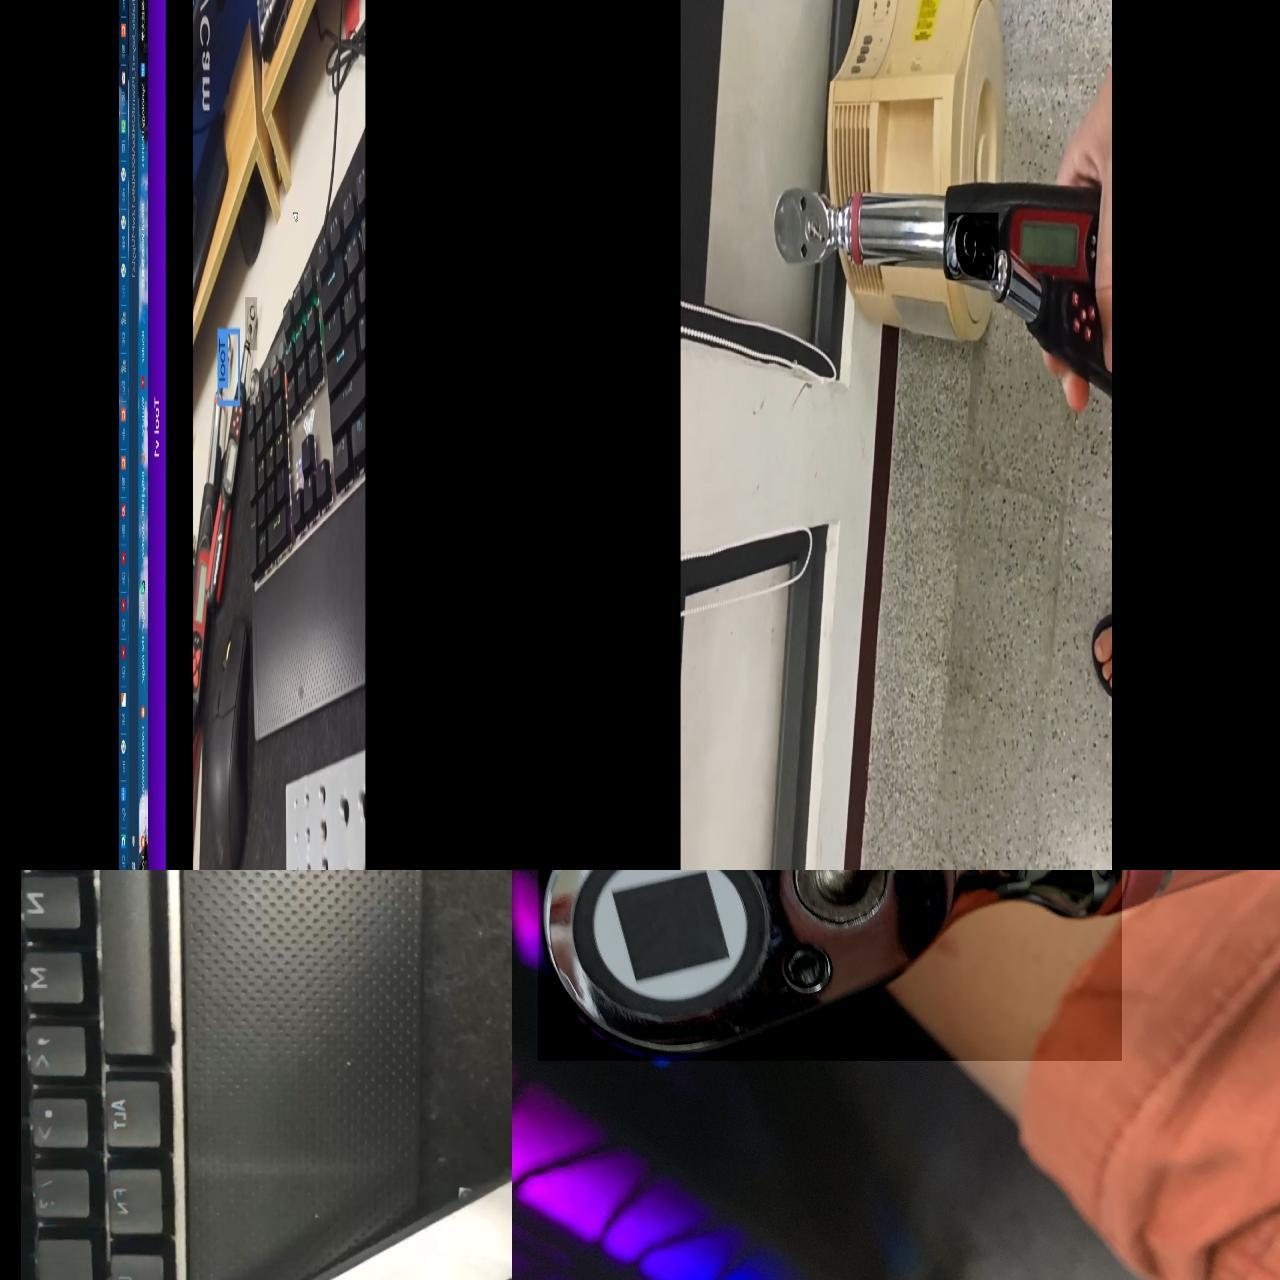Tool: (537, 870, 1121, 1061), (769, 179, 844, 278), (947, 212, 999, 280), (245, 297, 257, 350)
